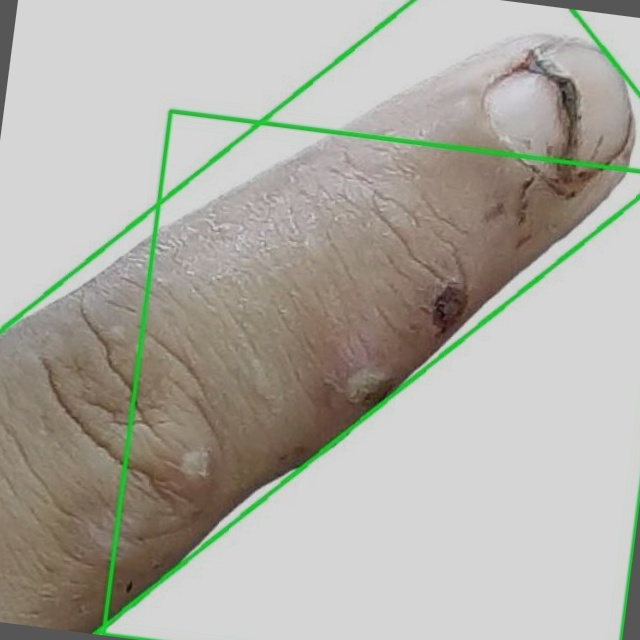Scabies: (0, 0, 639, 625), (103, 111, 639, 639)
